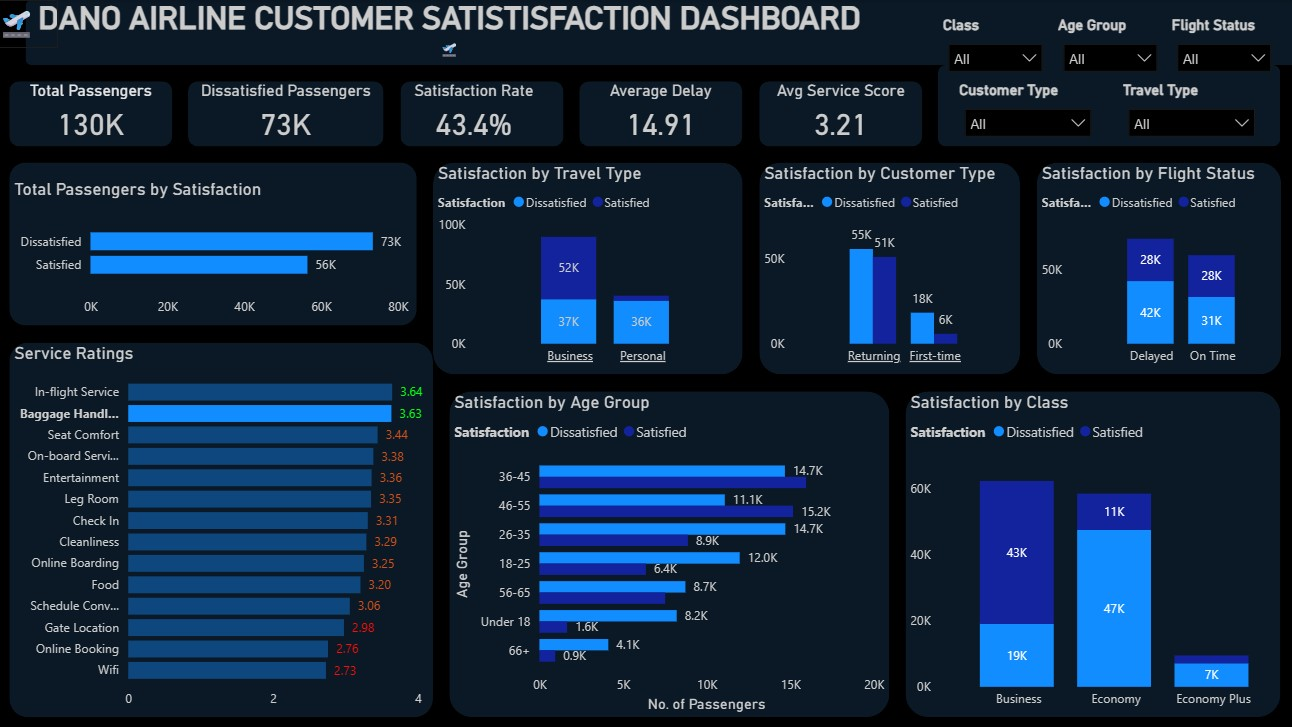

This screenshot's page, from the dashboard's own definition file:
{"tool":"powerbi","page":{"name":"AIRLINE DASHBOARD","canvas":[1280,720],"ordinal":0},"visuals":[{"type":"shape","box":[16,80,160,64],"z":0},{"type":"card","title":"Total Passengers","fields":{"Values":["Measure_Table.Total Passengers"]},"box":[16,80,160,64],"z":1000},{"type":"shape","box":[192,80,192,64],"z":2000},{"type":"card","title":"Dissatisfied Passengers","fields":{"Values":["New Measure.Dissatisfied Passengers"]},"box":[192,80,192,64],"z":3000},{"type":"shape","box":[400,80,160,64],"z":4000},{"type":"card","title":"Satisfaction Rate","fields":{"Values":["Measure_Table.Satisfaction Rate %"]},"box":[400,80,144,64],"z":5000},{"type":"shape","box":[576,80,160,64],"z":6000},{"type":"shape","box":[752,80,160,64],"z":7000},{"type":"card","title":"Average Delay","fields":{"Values":["New Measure.Average Delay"]},"box":[576,80,160,64],"z":8000},{"type":"card","title":"Avg Service Score","fields":{"Values":["New Measure.Service Score"]},"box":[752,80,160,64],"z":9000},{"type":"shape","box":[16,160,400,160],"z":10000},{"type":"clusteredBarChart","fields":{"Category":["Facts_Survey_Responses.Satisfaction"],"Y":["Measure_Table.Total Passengers"]},"box":[16,176,400,144],"z":11000},{"type":"shape","box":[432,160,304,208],"z":12000},{"type":"columnChart","title":"Satisfaction by Travel Type","fields":{"Category":["Dim_Flight.Type of Travel"],"Y":["Measure_Table.Total Passengers"],"Series":["Facts_Survey_Responses.Satisfaction"]},"box":[432,160,304,208],"z":13000},{"type":"shape","box":[448,384,432,320],"z":14000},{"type":"shape","box":[928,64,336,80],"z":15000},{"type":"shape","box":[32,0,1248,64],"z":16000},{"type":"shape","box":[896,384,368,320],"z":17000},{"type":"shape","box":[16,336,416,368],"z":18000},{"type":"shape","box":[752,160,256,208],"z":19000},{"type":"clusteredBarChart","title":"Satisfaction by Age Group","fields":{"Category":["Dim_Passengers.Age Group"],"Y":["CountNonNull(Dim_Passengers.Age Group)"],"Series":["Facts_Survey_Responses.Satisfaction"]},"box":[448,384,432,320],"z":20000},{"type":"columnChart","title":"Satisfaction by Class","fields":{"Category":["Dim_Flight.Class"],"Y":["Measure_Table.Total Passengers"],"Series":["Facts_Survey_Responses.Satisfaction"]},"box":[896,384,384,320],"z":21000},{"type":"clusteredBarChart","title":"Service Ratings","fields":{"Category":["Service Table.Service"],"Y":["Avg(Service Table.Rating)"]},"box":[16,336,416,368],"z":22000},{"type":"shape","box":[1024,160,240,208],"z":23000},{"type":"clusteredColumnChart","title":"Satisfaction by Customer Type","fields":{"Category":["Dim_Passengers.Customer Type"],"Y":["Measure_Table.Total Passengers"],"Series":["Facts_Survey_Responses.Satisfaction"]},"box":[752,160,256,208],"z":24000},{"type":"textbox","title":"DANO AIRLINE CUSTOMER SATISTISFACTION DASHBOARD","box":[16,0,864,64],"z":25000},{"type":"columnChart","title":"Satisfaction by Flight Status","fields":{"Category":["Dim_Flight.Flight Status"],"Series":["Facts_Survey_Responses.Satisfaction"],"Y":["CountNonNull(Dim_Flight.Flight Status)"]},"box":[1024,160,256,208],"z":26000},{"type":"slicer","title":"Customer Type","fields":{"Values":["Dim_Passengers.Customer Type"]},"box":[944,80,144,64],"z":27000},{"type":"slicer","title":"Travel Type","fields":{"Values":["Dim_Flight.Type of Travel"]},"box":[1104,80,144,64],"z":28000},{"type":"slicer","title":"Class","fields":{"Values":["Dim_Flight.Class"]},"box":[928,16,112,64],"z":29000},{"type":"slicer","title":"Age Group","fields":{"Values":["Dim_Passengers.Age Group"]},"box":[1040,16,112,64],"z":30000},{"type":"slicer","title":"Flight Status","fields":{"Values":["Dim_Flight.Flight Status"]},"box":[1152,16,112,64],"z":31000},{"type":"textbox","box":[0,0,64,48],"z":31001}]}

Visuals, with their boxes in screenshot pixels (x1, y1, x2, y2), scaled from the page's 1280x720 canvas onto the 1292x727 screenshot:
shape: [x1=16, y1=81, x2=178, y2=145]
"Total Passengers" card: [x1=16, y1=81, x2=178, y2=145]
shape: [x1=194, y1=81, x2=388, y2=145]
"Dissatisfied Passengers" card: [x1=194, y1=81, x2=388, y2=145]
shape: [x1=404, y1=81, x2=565, y2=145]
"Satisfaction Rate" card: [x1=404, y1=81, x2=549, y2=145]
shape: [x1=581, y1=81, x2=743, y2=145]
shape: [x1=759, y1=81, x2=921, y2=145]
"Average Delay" card: [x1=581, y1=81, x2=743, y2=145]
"Avg Service Score" card: [x1=759, y1=81, x2=921, y2=145]
shape: [x1=16, y1=162, x2=420, y2=323]
clusteredBarChart - Facts_Survey_Responses.Satisfaction x Measure_Table.Total Passengers: [x1=16, y1=178, x2=420, y2=323]
shape: [x1=436, y1=162, x2=743, y2=372]
"Satisfaction by Travel Type" columnChart: [x1=436, y1=162, x2=743, y2=372]
shape: [x1=452, y1=388, x2=888, y2=711]
shape: [x1=937, y1=65, x2=1276, y2=145]
shape: [x1=32, y1=0, x2=1291, y2=65]
shape: [x1=904, y1=388, x2=1276, y2=711]
shape: [x1=16, y1=339, x2=436, y2=711]
shape: [x1=759, y1=162, x2=1017, y2=372]
"Satisfaction by Age Group" clusteredBarChart: [x1=452, y1=388, x2=888, y2=711]
"Satisfaction by Class" columnChart: [x1=904, y1=388, x2=1291, y2=711]
"Service Ratings" clusteredBarChart: [x1=16, y1=339, x2=436, y2=711]
shape: [x1=1034, y1=162, x2=1276, y2=372]
"Satisfaction by Customer Type" clusteredColumnChart: [x1=759, y1=162, x2=1017, y2=372]
"DANO AIRLINE CUSTOMER SATISTISFACTION DASHBOARD" textbox: [x1=16, y1=0, x2=888, y2=65]
"Satisfaction by Flight Status" columnChart: [x1=1034, y1=162, x2=1291, y2=372]
"Customer Type" slicer: [x1=953, y1=81, x2=1098, y2=145]
"Travel Type" slicer: [x1=1114, y1=81, x2=1260, y2=145]
"Class" slicer: [x1=937, y1=16, x2=1050, y2=81]
"Age Group" slicer: [x1=1050, y1=16, x2=1163, y2=81]
"Flight Status" slicer: [x1=1163, y1=16, x2=1276, y2=81]
textbox: [x1=0, y1=0, x2=65, y2=48]
